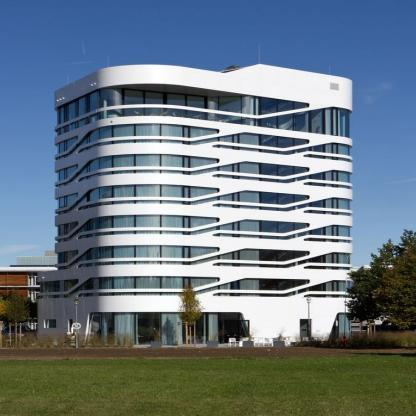Building Outline: (37, 63, 354, 345)
Door: (223, 320, 249, 344), (300, 319, 311, 342)
Facade: (100, 63, 353, 345)
Glass Wall: (100, 88, 350, 138), (100, 125, 349, 162), (100, 154, 349, 189), (100, 185, 349, 216), (100, 215, 350, 243), (100, 246, 350, 270), (100, 276, 350, 298), (100, 313, 242, 345), (328, 313, 351, 342)
